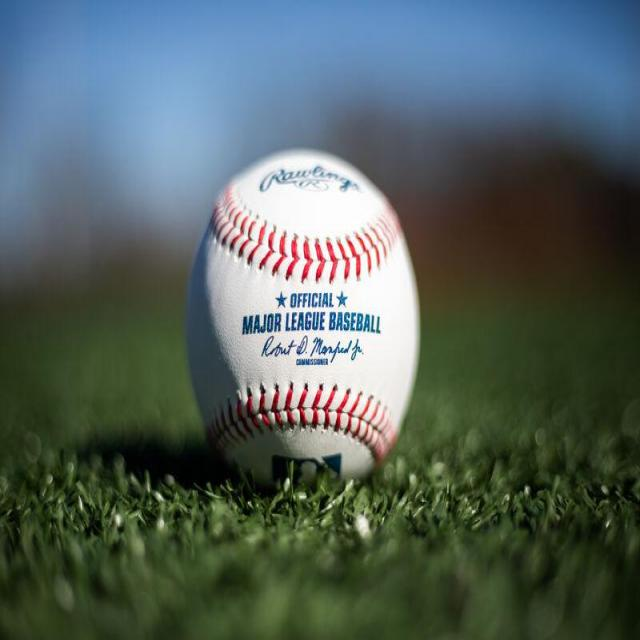baseball: (182, 147, 420, 493)
